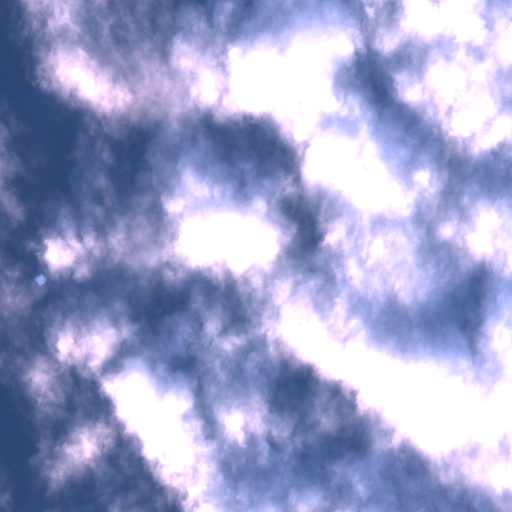Iceberg: (35, 274, 45, 284)
